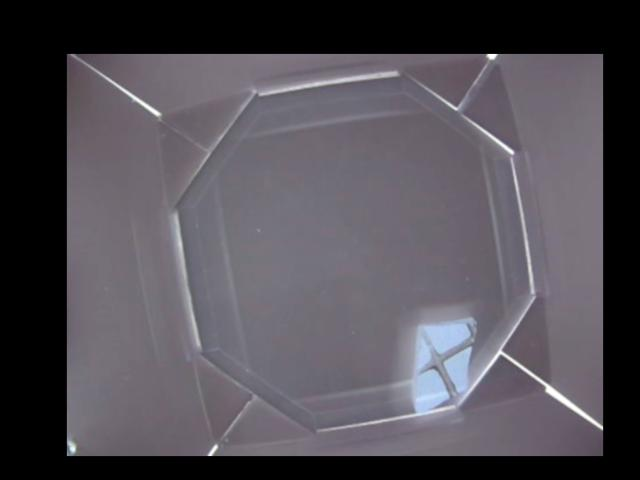China: (415, 319, 474, 414)
